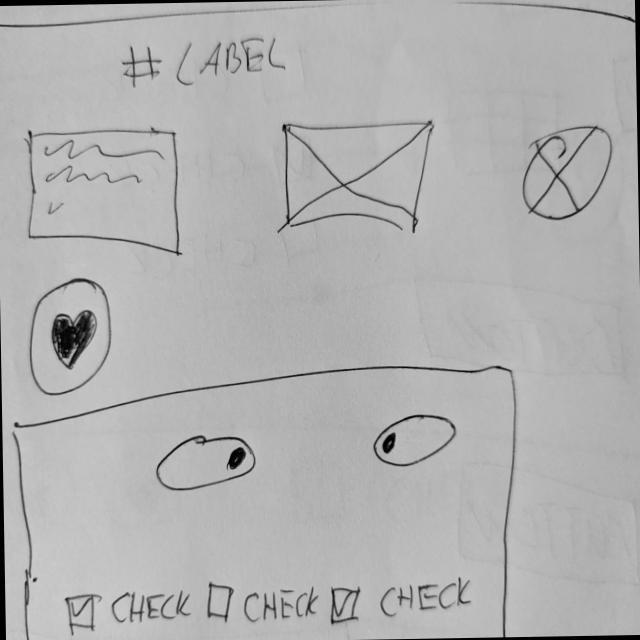checkbox: (327, 576, 477, 631), (63, 583, 194, 634), (203, 579, 322, 632)
container: (9, 358, 523, 640)
icon-button: (25, 274, 115, 400)
image: (279, 117, 437, 242), (520, 120, 618, 228)
label: (119, 31, 289, 90)
textarea: (23, 123, 186, 261)
toggle: (151, 433, 259, 497), (369, 411, 458, 474)
